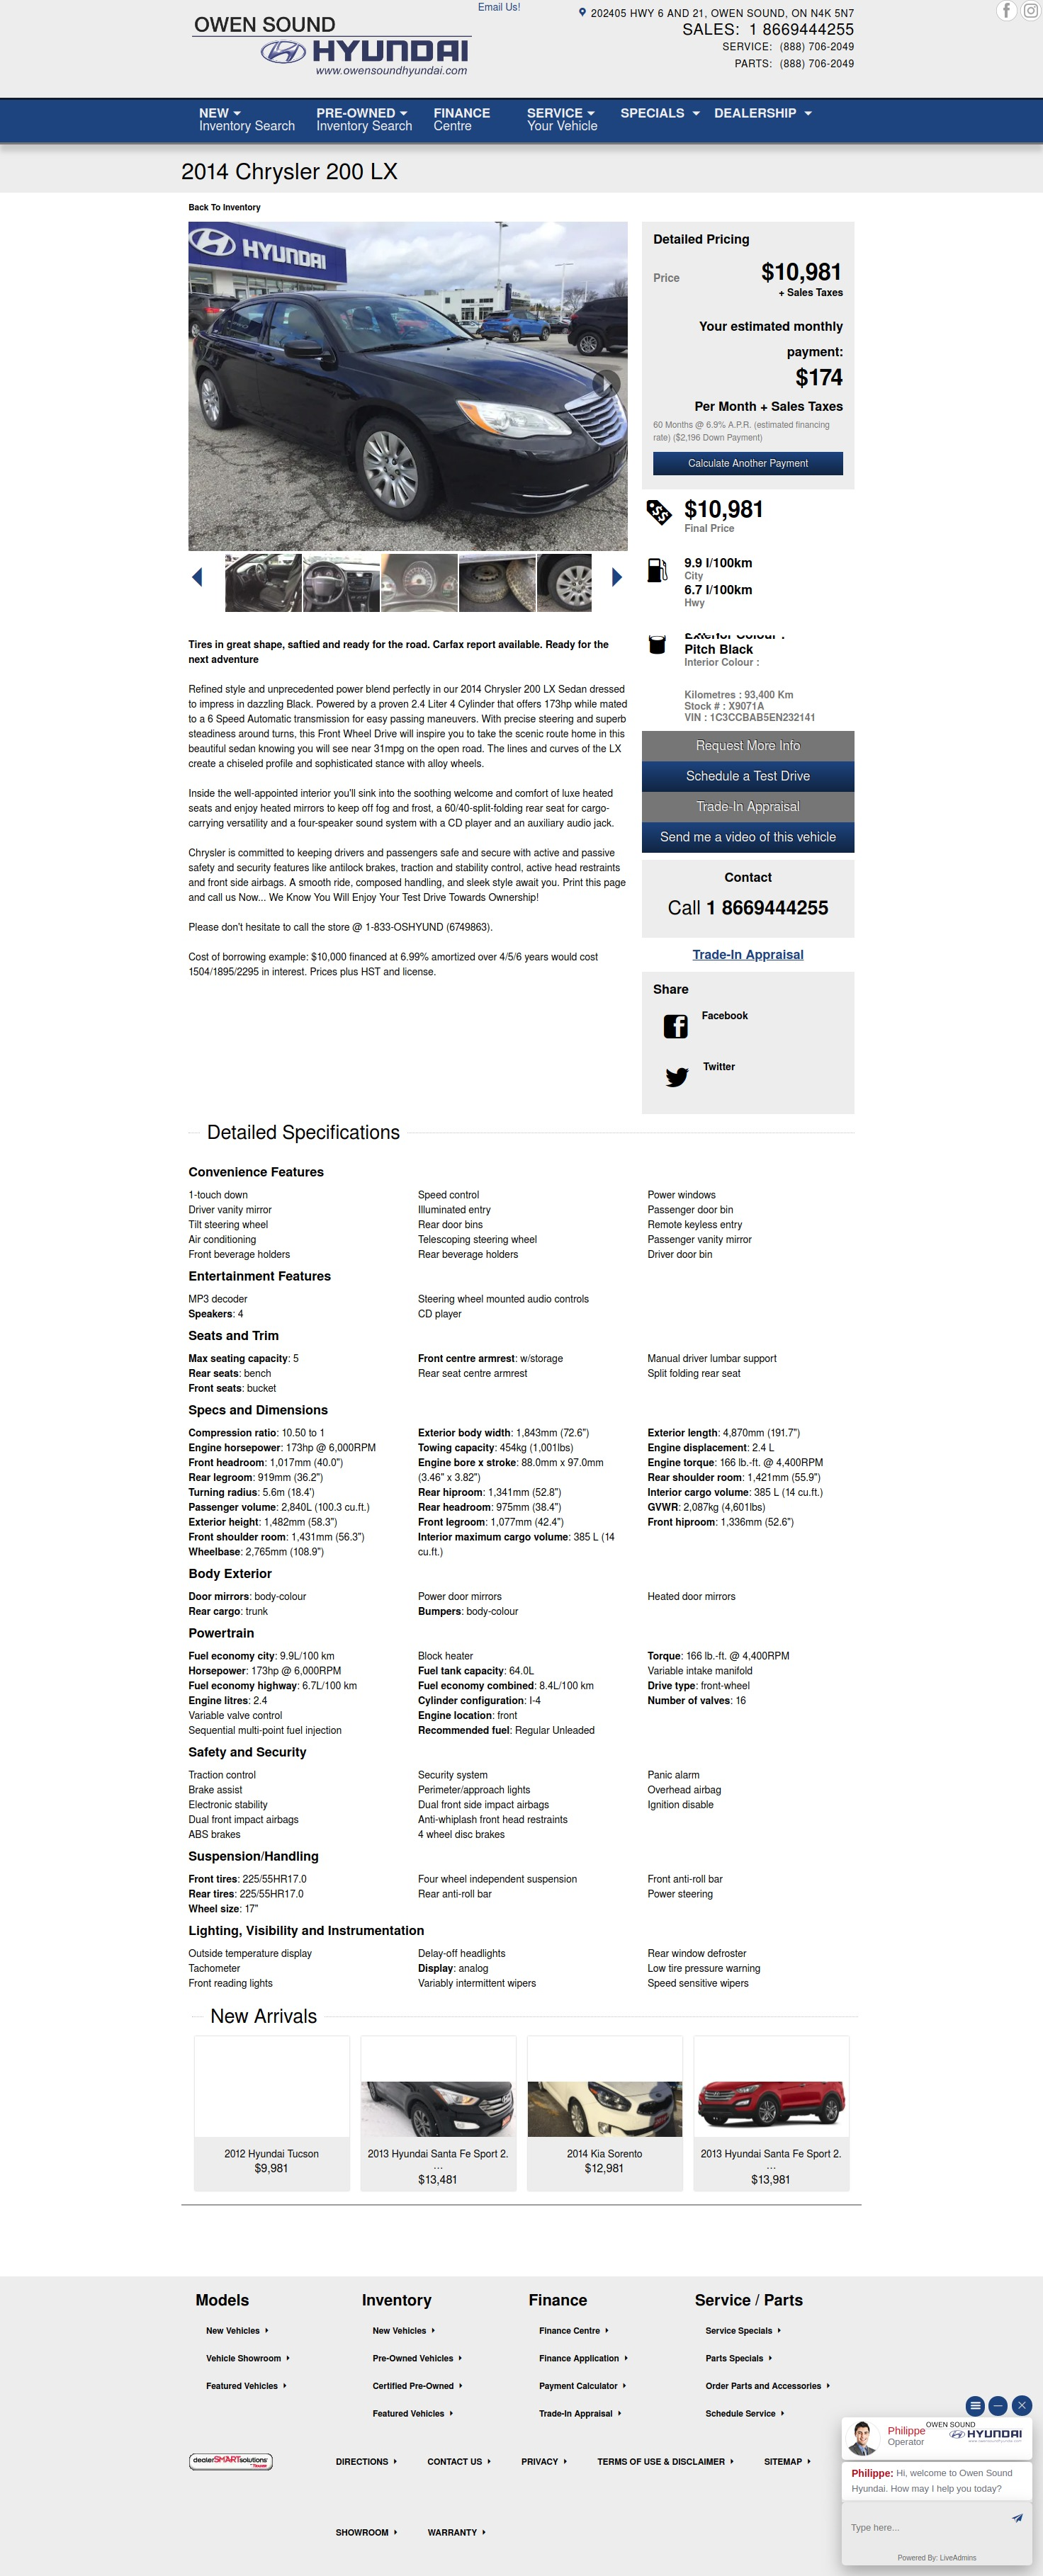car: (613, 567, 624, 588)
